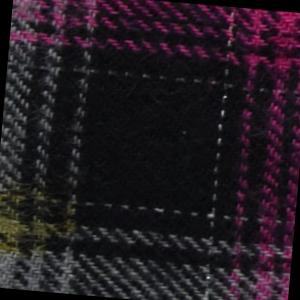Stain: (1, 176, 93, 266)
